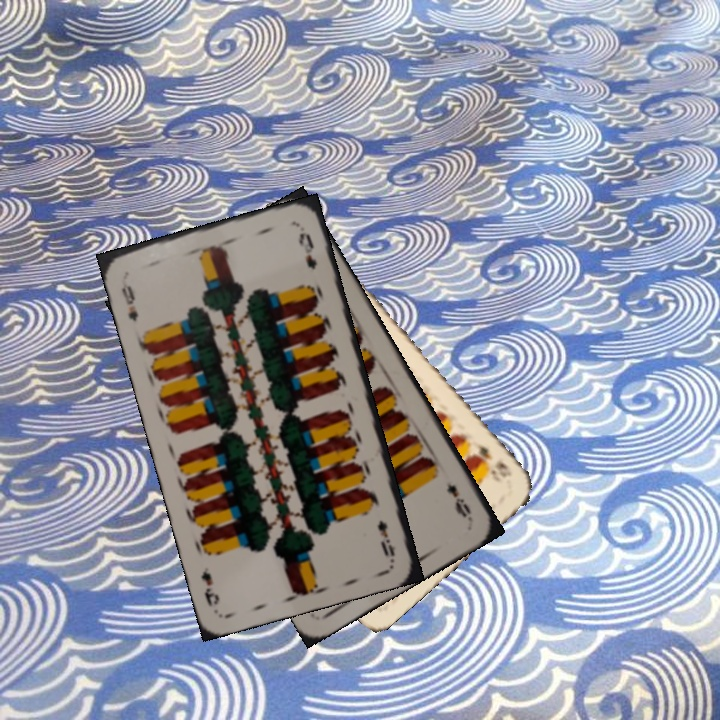E10: (468, 438, 515, 480)
E9: (442, 479, 475, 523), (373, 516, 398, 559), (117, 281, 141, 325)
